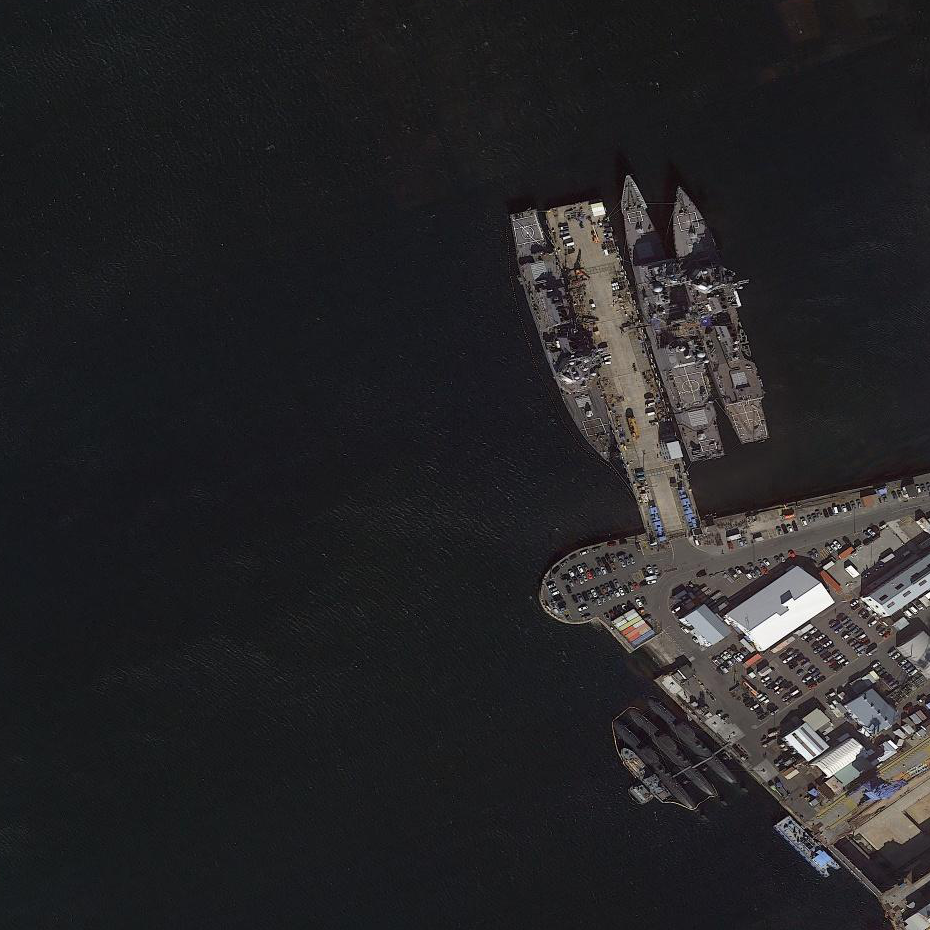Arleigh Burke DD: (656, 176, 778, 452), (502, 205, 622, 467)
Dock: (542, 196, 704, 542)
Other Warship: (614, 744, 674, 806), (627, 777, 655, 807)
Submarine: (622, 699, 722, 805), (640, 685, 738, 789), (609, 713, 705, 815)
Ticonderoga: (609, 169, 725, 465)
